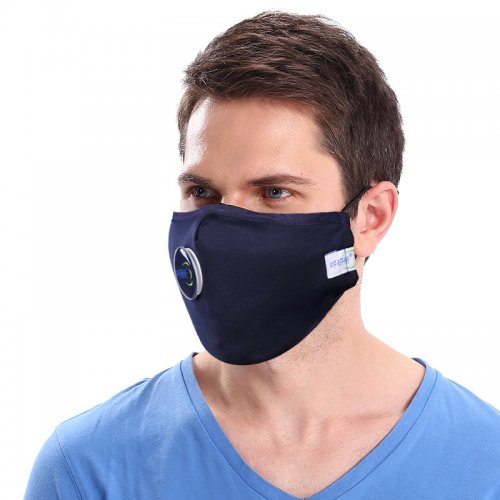face_mask: (173, 99, 343, 363)
